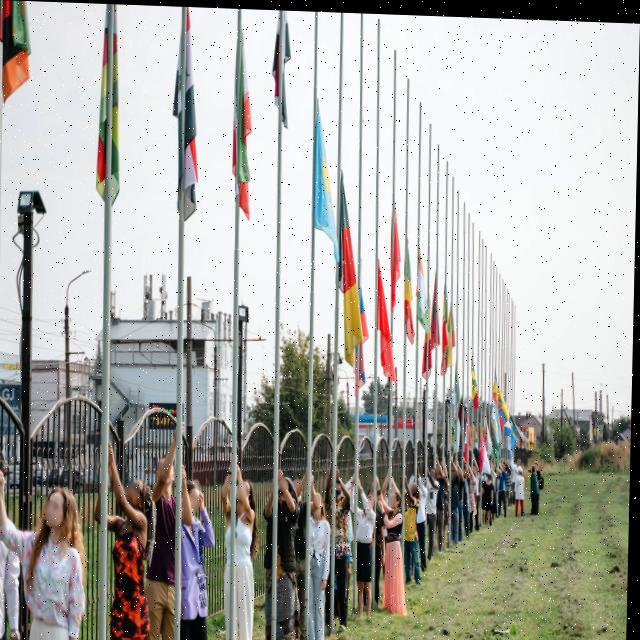Person: (22, 472, 85, 640), (113, 460, 154, 640), (264, 463, 304, 640), (222, 457, 258, 640), (180, 477, 215, 640), (157, 445, 184, 640), (353, 481, 384, 634), (327, 463, 353, 637), (304, 475, 331, 640), (385, 478, 412, 615), (422, 466, 443, 568), (405, 478, 425, 580), (416, 472, 432, 574), (434, 459, 449, 558), (448, 460, 463, 549), (461, 462, 472, 544), (483, 465, 496, 525), (500, 460, 511, 519), (516, 462, 528, 515), (491, 460, 502, 517), (534, 456, 545, 509), (531, 458, 541, 511), (474, 459, 481, 525), (516, 453, 525, 478)
